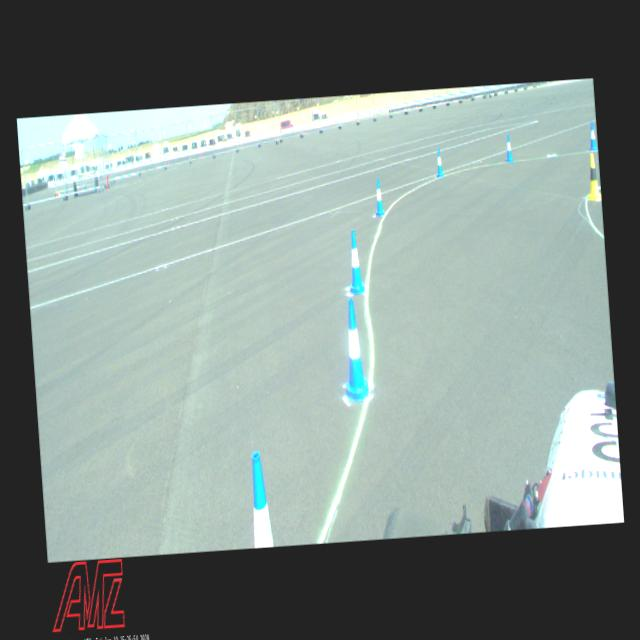blue_cone: (338, 296, 370, 402), (247, 450, 274, 548), (344, 228, 366, 294), (373, 177, 384, 216), (588, 120, 598, 150), (435, 148, 444, 177), (504, 134, 513, 162)
yellow_cone: (584, 152, 601, 200)
